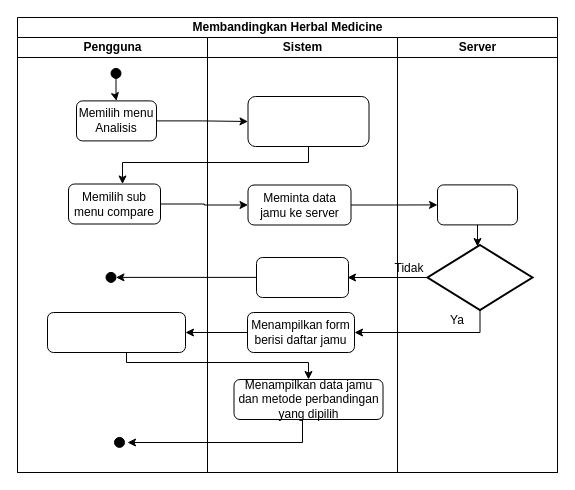
This 575x490 diagram has some shape labels left out. The centre of each missing label's shape, as x and y in pixels:
data valid ?: [479,277]
Memilih 2 jamu berdasarkan daftar jamu: [116,332]
Menampilkan pesan Error: [302,277]
Menampilkan sub menu yang terdapat di menu analisis: [308,121]
Mengirimkan data jamu: [477,204]
